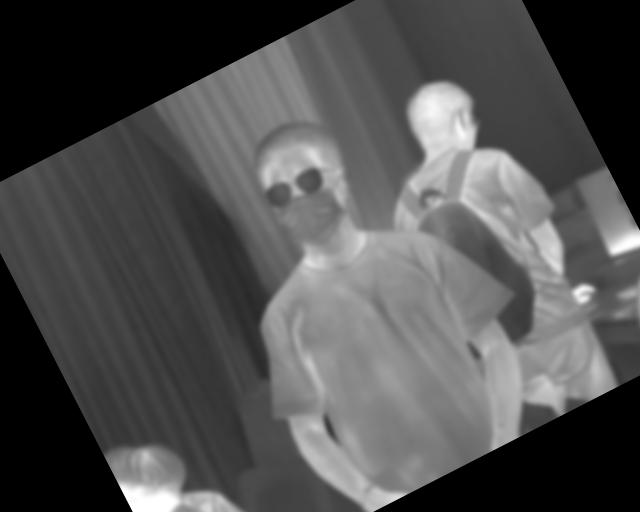face: (237, 103, 377, 258)
